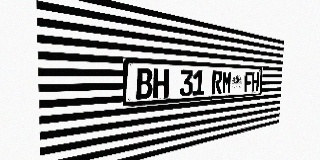1: (193, 70, 205, 96)
3: (179, 69, 193, 97)
B: (136, 68, 153, 100)
F: (244, 72, 252, 92)
H: (153, 68, 169, 98), (252, 72, 259, 92)
M: (222, 71, 232, 94)
R: (212, 71, 222, 94)
